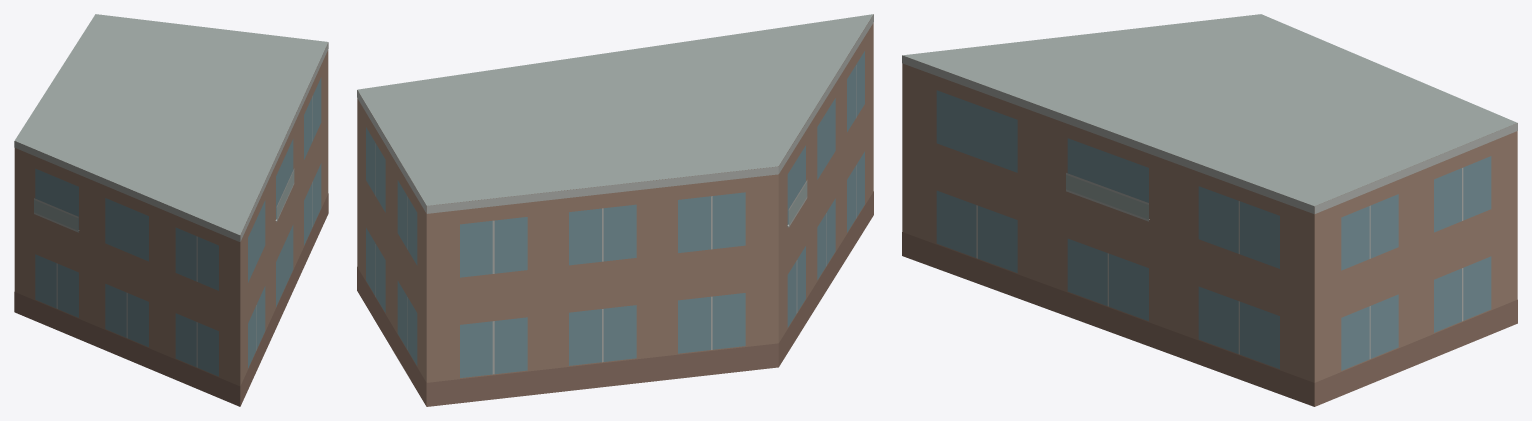
The model's file is survey-upis-33024321.glb.
The picture shows the model from 3 angles, left to right: view 1: azimuth 30°, elevation 25°; view 2: azimuth 150°, elevation 25°; view 3: azimuth 270°, elevation 25°; orthographic projection. The views are drawn at different scales.
Parts seen in each view (by area): view 1: survey-upis-33024321.tmp; view 2: survey-upis-33024321.tmp; view 3: survey-upis-33024321.tmp.
Part boxes in pixels (left/top/right/bottom): survey-upis-33024321.tmp: left=14, top=14, right=328, bottom=406; survey-upis-33024321.tmp: left=357, top=14, right=873, bottom=406; survey-upis-33024321.tmp: left=902, top=14, right=1517, bottom=406.
Bounding box in the file's own units: 12.55 × 6.1 × 16.97.
